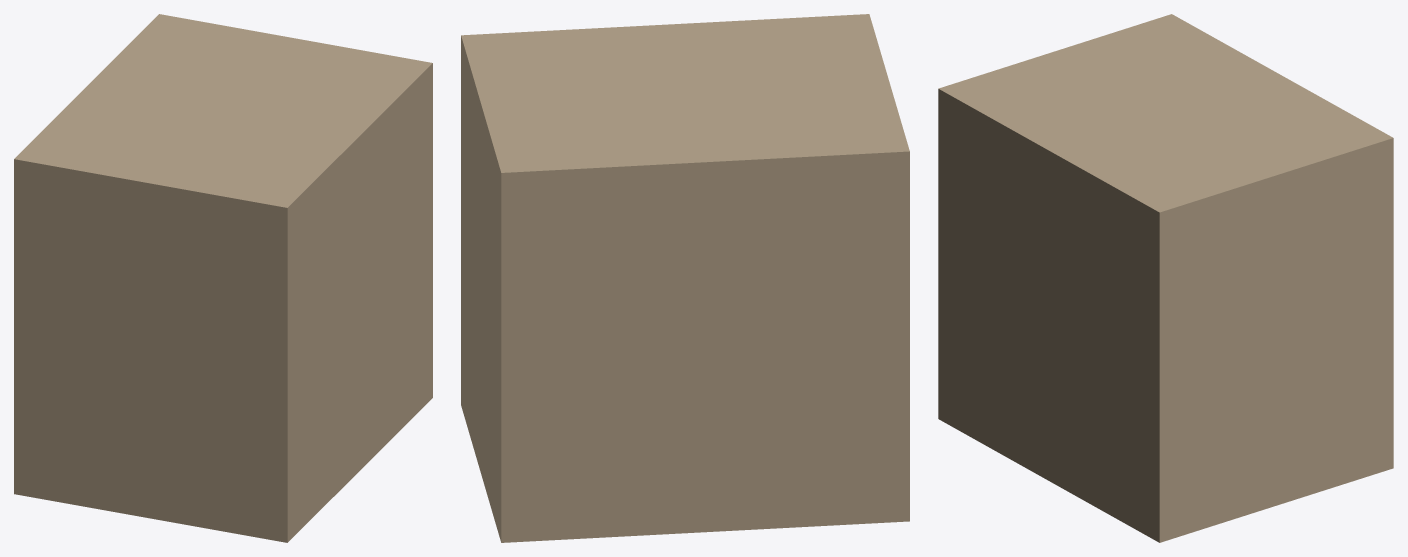
File: bld_101805925.dae
3 renders of one model, left to right at view 1: azimuth 30°, elevation 25°; view 2: azimuth 150°, elevation 25°; view 3: azimuth 270°, elevation 25°, orthographic. The views are drawn at different scales.
Visible parts, largest first — view 1: bld_101805925; view 2: bld_101805925; view 3: bld_101805925.
Boxes of the visible parts, <box> form: bld_101805925: <box>14,14,432,542</box>; bld_101805925: <box>461,14,909,542</box>; bld_101805925: <box>938,14,1393,542</box>.
Bounding box in the file's own units: 10.31 × 9.99 × 8.
